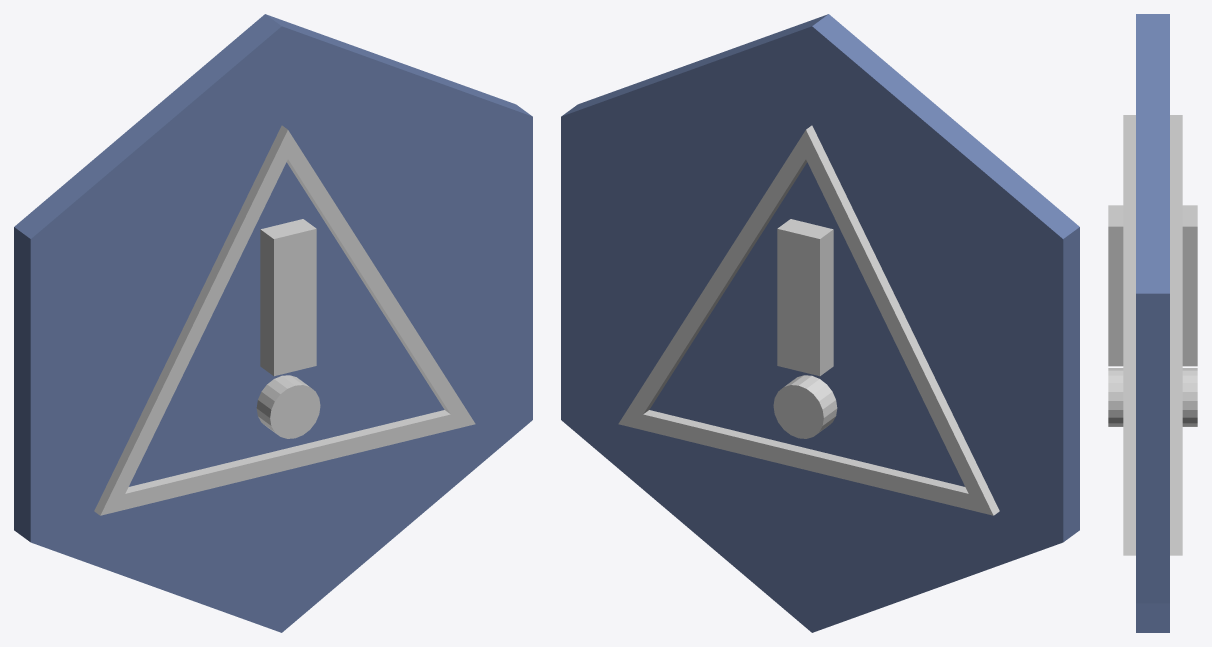
File: incident-thin-3d.glb
3 renders of one model, left to right at view 1: azimuth 30°, elevation 25°; view 2: azimuth 150°, elevation 25°; view 3: azimuth 270°, elevation 25°, orthographic. The views are drawn at different scales.
Visible parts, largest first — view 1: Mesh_Mesh_head_geo.001_lambert2SG.001; view 2: Mesh_Mesh_head_geo.001_lambert2SG.001; view 3: Mesh_Mesh_head_geo.001_lambert2SG.001.
Part boxes in pixels (left/top/right/bottom): Mesh_Mesh_head_geo.001_lambert2SG.001: left=14, top=14, right=532, bottom=632; Mesh_Mesh_head_geo.001_lambert2SG.001: left=561, top=14, right=1079, bottom=632; Mesh_Mesh_head_geo.001_lambert2SG.001: left=1108, top=14, right=1197, bottom=632.
Bounding box in the file's own units: 19.92 × 23 × 3.
